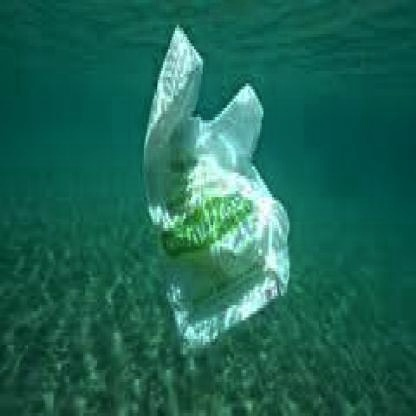pbag: (142, 25, 291, 361)
